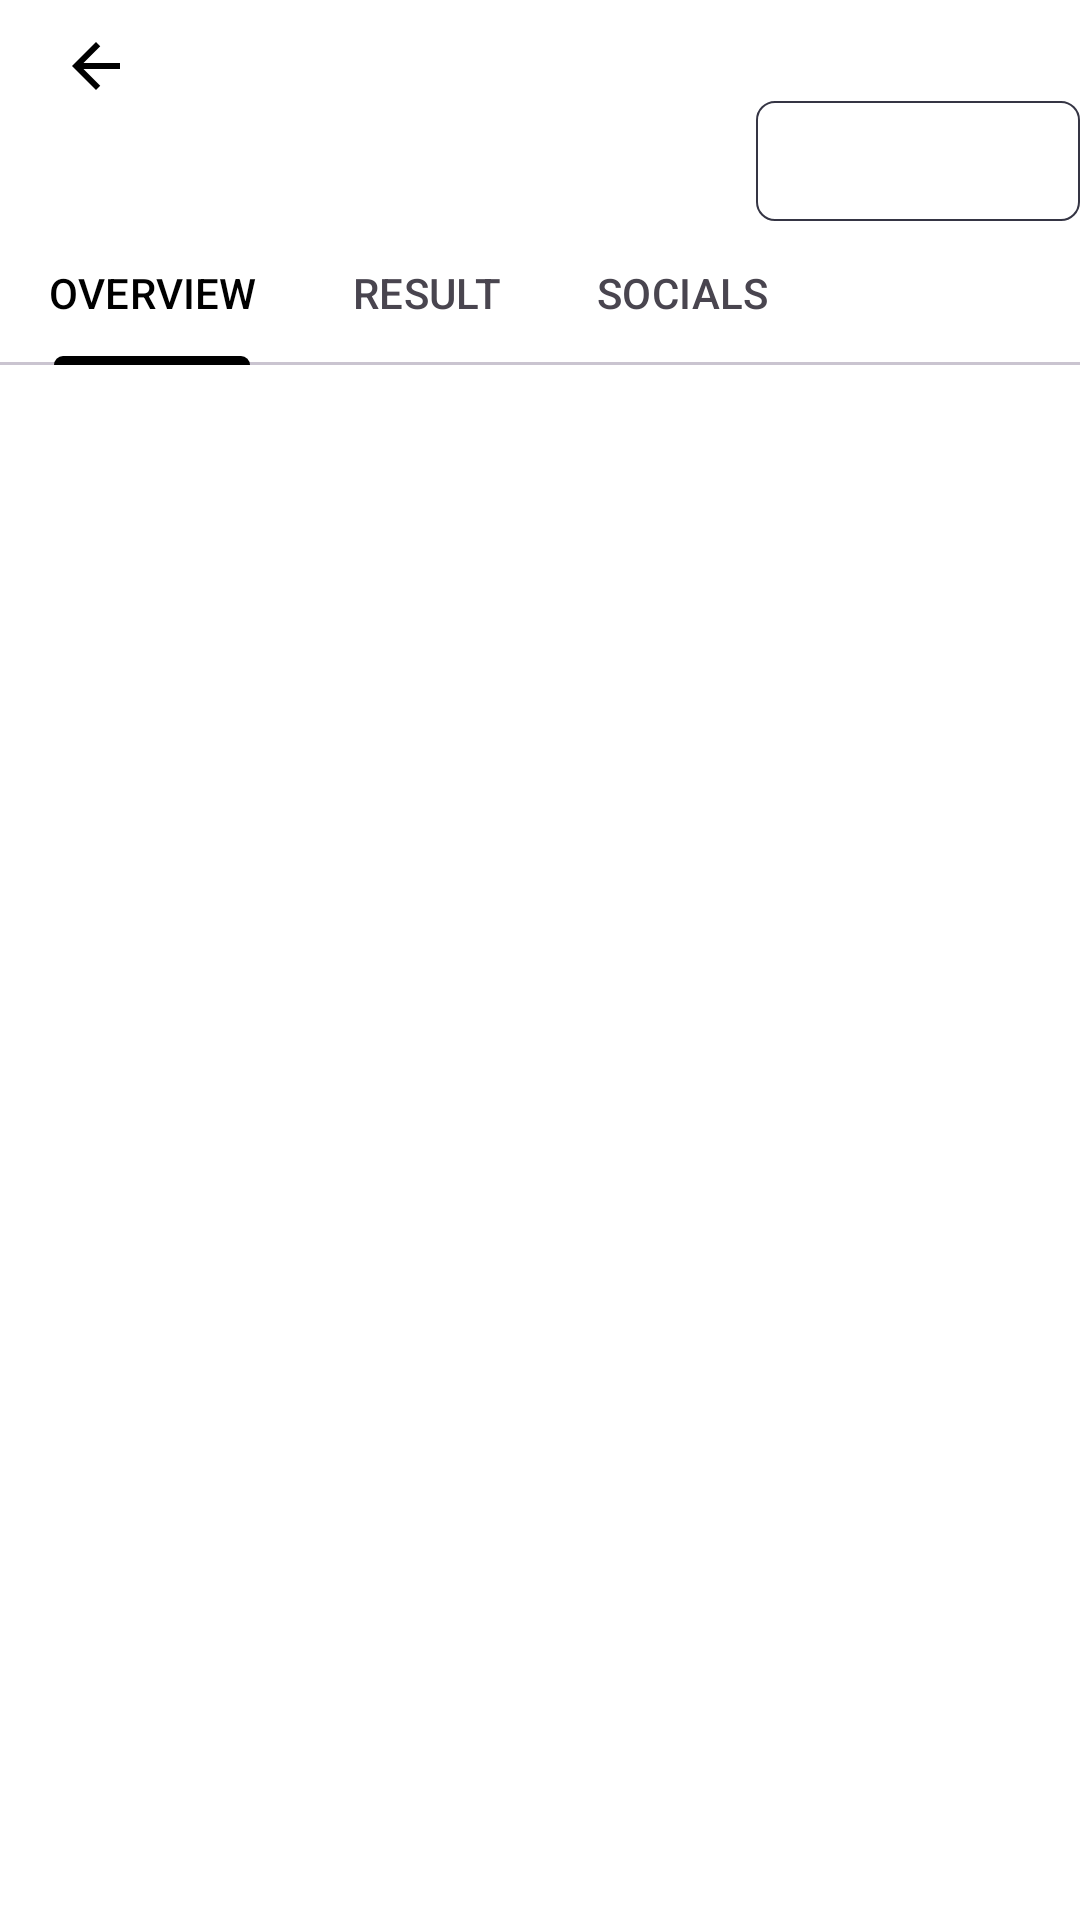

Icon click points for this 1080 x 1920 phone screenshot, format [x,y]:
Back: [96,66]
